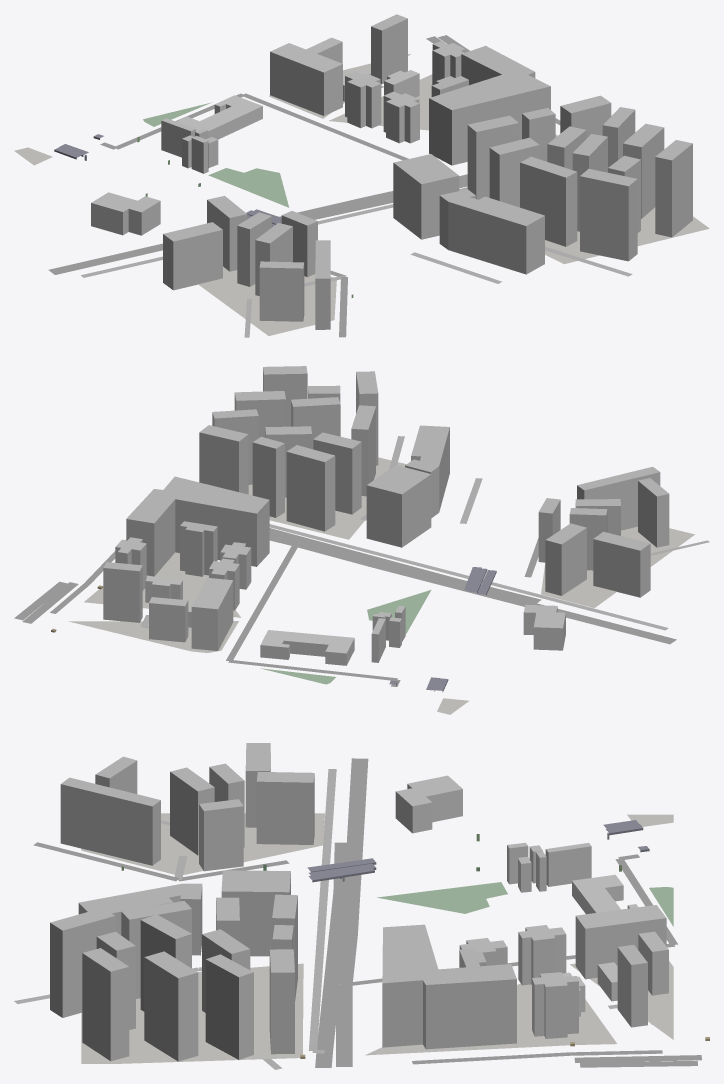
3 views of the same model, one above another, from view 1: azimuth 30°, elevation 25°; view 2: azimuth 150°, elevation 25°; view 3: azimuth 270°, elevation 25° (orthographic). The views are drawn at different scales.
Size of the model in its own units: 622 by 84.73 by 587.
